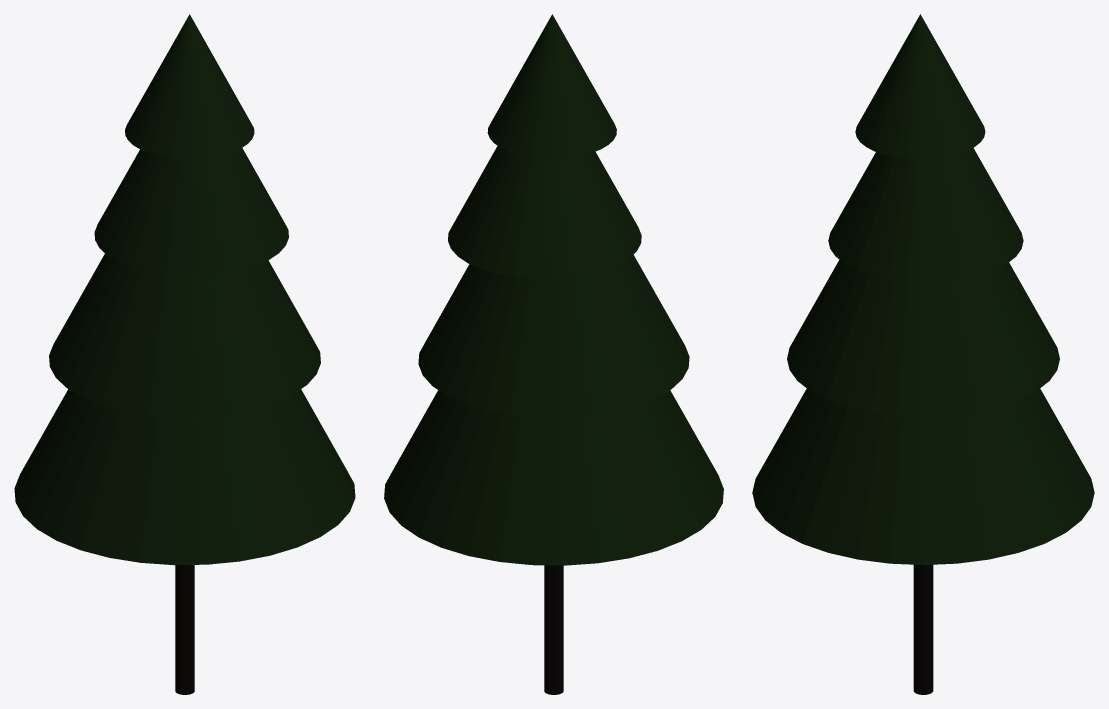
Rendered from tree.obj.
The picture shows the model from 3 angles, left to right: view 1: azimuth 30°, elevation 25°; view 2: azimuth 150°, elevation 25°; view 3: azimuth 270°, elevation 25°; orthographic projection.
Parts seen in each view (by area): view 1: Cone.003, Cone.001_Cone.004, Cone.002_Cone.005, Cone.004_Cone.006, Cylinder_Cylinder.001; view 2: Cone.003, Cone.001_Cone.004, Cone.002_Cone.005, Cone.004_Cone.006, Cylinder_Cylinder.001; view 3: Cone.003, Cone.001_Cone.004, Cone.002_Cone.005, Cone.004_Cone.006, Cylinder_Cylinder.001.
Boxes of the visible parts, x1,y1,x2,y2 form: Cone.003: (14, 389, 355, 565); Cone.001_Cone.004: (49, 253, 320, 416); Cone.002_Cone.005: (94, 148, 288, 275); Cone.004_Cone.006: (125, 14, 254, 158); Cylinder_Cylinder.001: (175, 565, 194, 694); Cone.003: (384, 390, 723, 565); Cone.001_Cone.004: (418, 254, 689, 417); Cone.002_Cone.005: (448, 146, 641, 279); Cone.004_Cone.006: (487, 14, 616, 158); Cylinder_Cylinder.001: (544, 565, 563, 694); Cone.003: (752, 388, 1094, 564); Cone.001_Cone.004: (787, 260, 1059, 416); Cone.002_Cone.005: (828, 148, 1023, 281); Cone.004_Cone.006: (855, 14, 985, 159); Cylinder_Cylinder.001: (913, 564, 933, 694).
Bounding box in the file's own units: 3.54 × 7.74 × 3.54.
